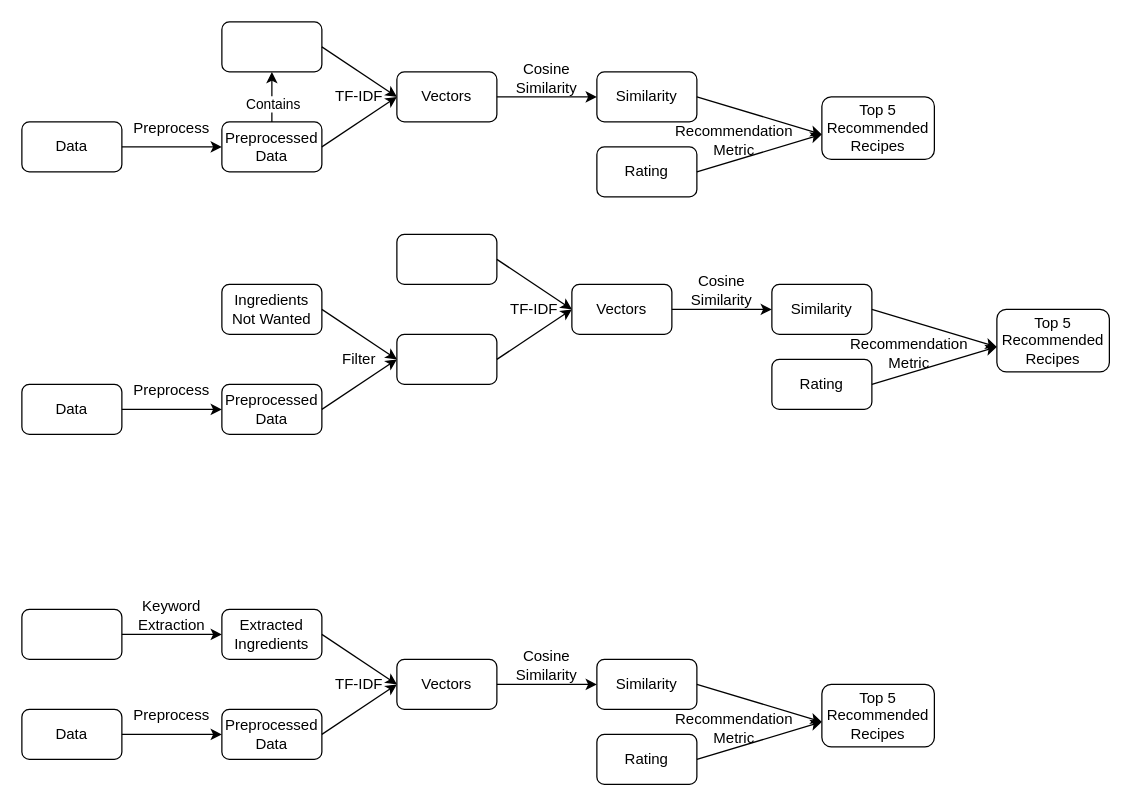
Image size: 1131x806. Some labels were removed from this diagram. The centre of each missing label's shape, as x and y in pixels:
"Filtered Preprocessed Data" goes at (x=446, y=358).
"Ingredients Wanted" goes at (x=446, y=258).
"Natural Language" goes at (x=71, y=633).
"Selected Recipe" goes at (x=271, y=46).
